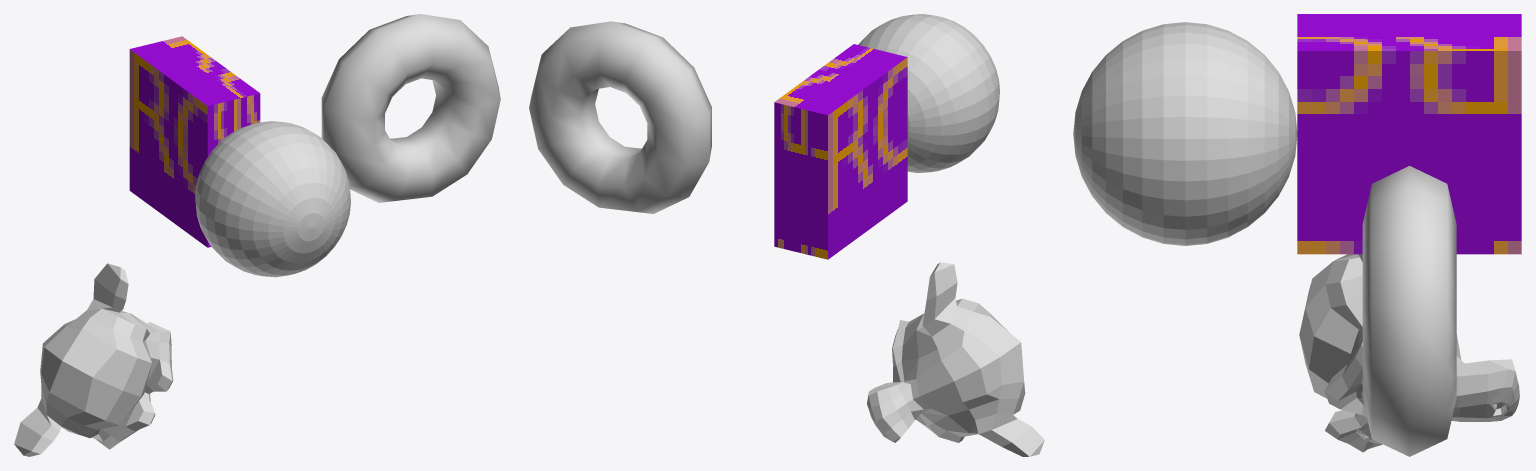
File: testin.gltf
3 renders of one model, left to right at view 1: azimuth 30°, elevation 25°; view 2: azimuth 150°, elevation 25°; view 3: azimuth 270°, elevation 25°, orthographic. The views are drawn at different scales.
Visible parts, largest first — view 1: Torus.001, Sphere, Suzanne, Cube; view 2: Torus.001, Cube, Suzanne, Sphere; view 3: Cube, Sphere, Torus.001, Suzanne.
Part boxes in pixels (<box>): Torus.001: <box>321,14,500,202</box>; Sphere: <box>195,121,350,277</box>; Suzanne: <box>14,263,173,456</box>; Cube: <box>129,36,260,247</box>; Torus.001: <box>529,21,711,213</box>; Cube: <box>774,44,907,259</box>; Suzanne: <box>867,262,1044,456</box>; Sphere: <box>858,14,999,172</box>; Cube: <box>1297,14,1521,254</box>; Sphere: <box>1073,22,1297,245</box>; Torus.001: <box>1362,165,1456,456</box>; Suzanne: <box>1299,254,1519,452</box>.
Size of the model in its own units: 7.2 by 4.85 by 4.
Materials: 1 (1 with a texture image).
